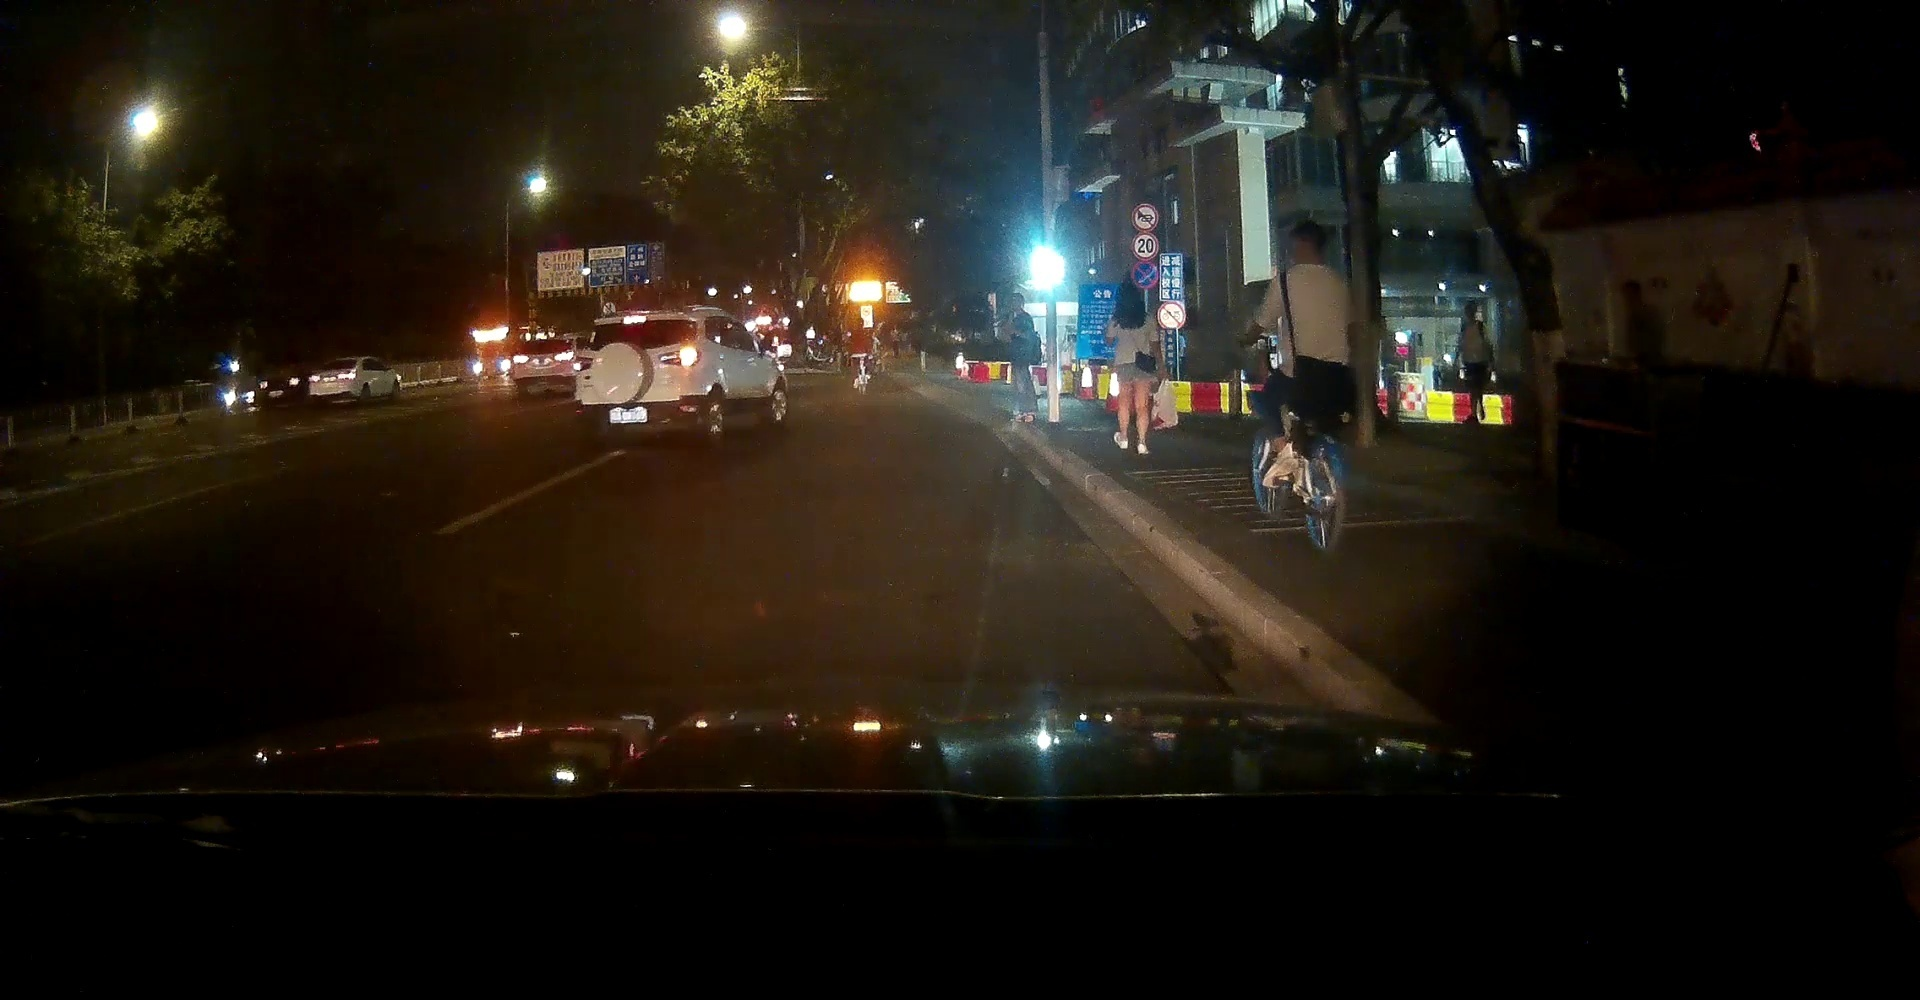L_light: (574, 355, 594, 373)
R_light: (659, 346, 702, 367)
T_light: (623, 316, 646, 324)
night-brake: (573, 306, 705, 444)
